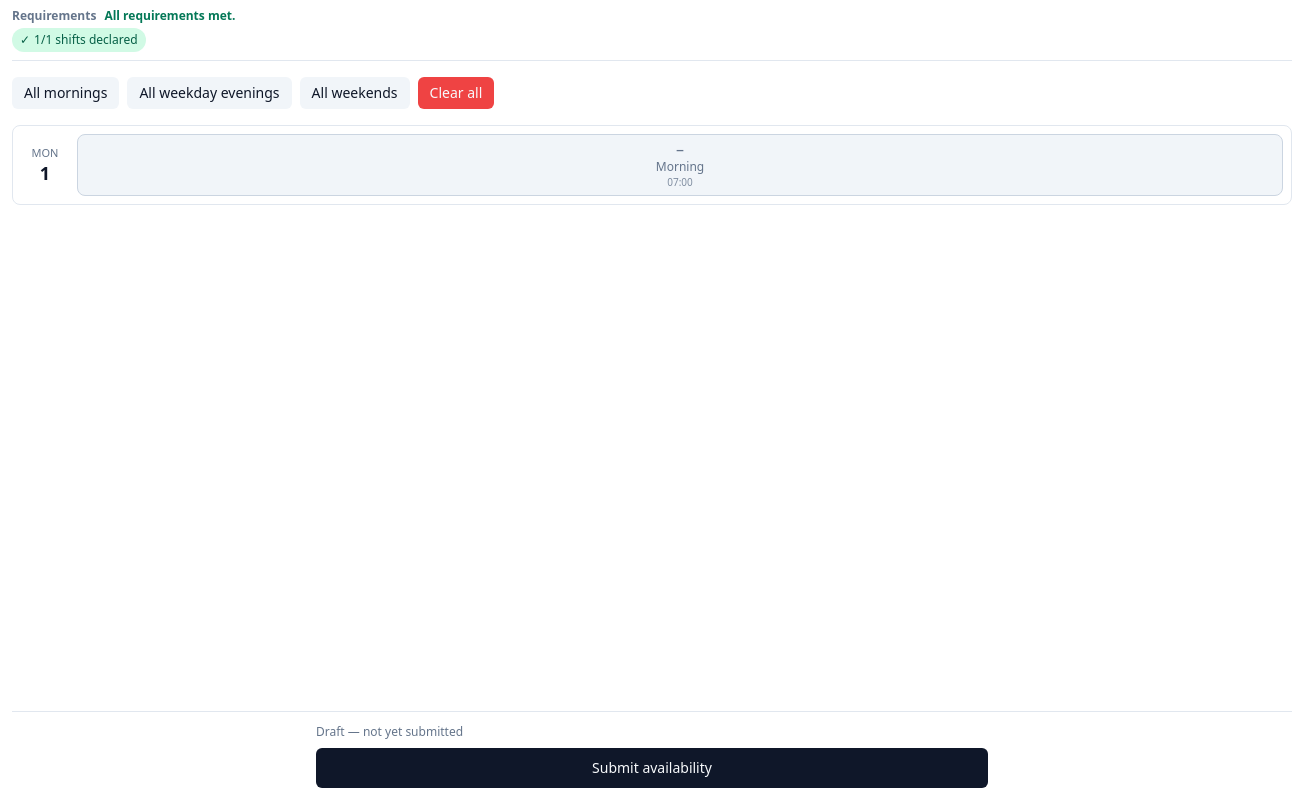
Test case: AvailabilityCalendar › clear all bulk action resets every slot to unavailable
Click the button with aria-label "morning — unavailable". click: [680, 165]
box: [77, 134, 1283, 196]
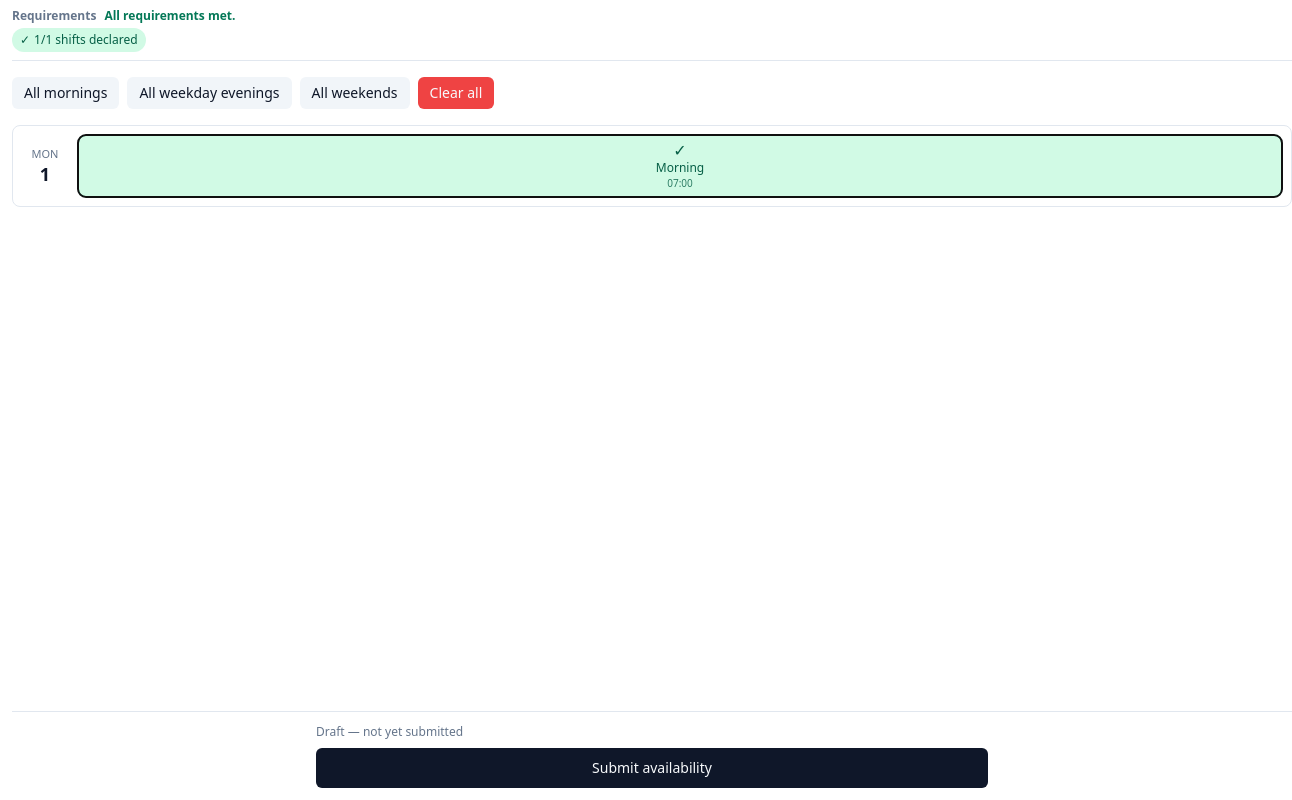
Result: the button with aria-label "morning — available" is shown at [77, 134, 1283, 198]
Click the button "Clear all". click: [456, 93]
box: [418, 77, 494, 109]
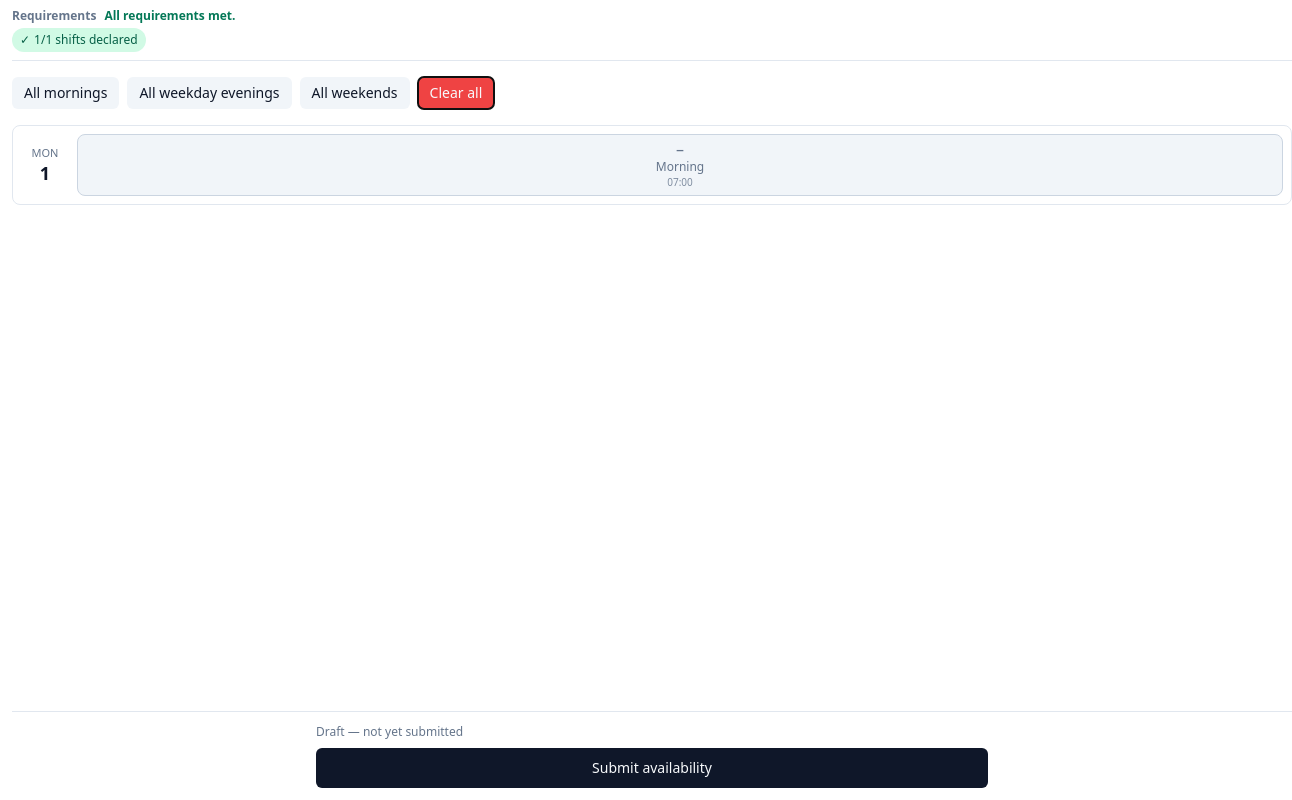
Result: the button with aria-label "morning — unavailable" is shown at [77, 134, 1283, 196]
